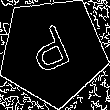P_SE: (27, 21, 80, 82)
